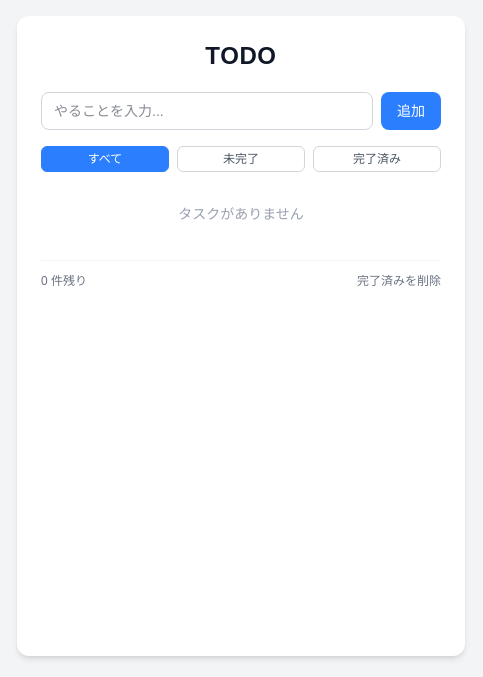
it: Home (TODO app) › deletes a todo when the delete button is clicked
Type "牛乳を買う" into the field with placeholder "やることを入力..." at (207,111), box [41,92,373,130]
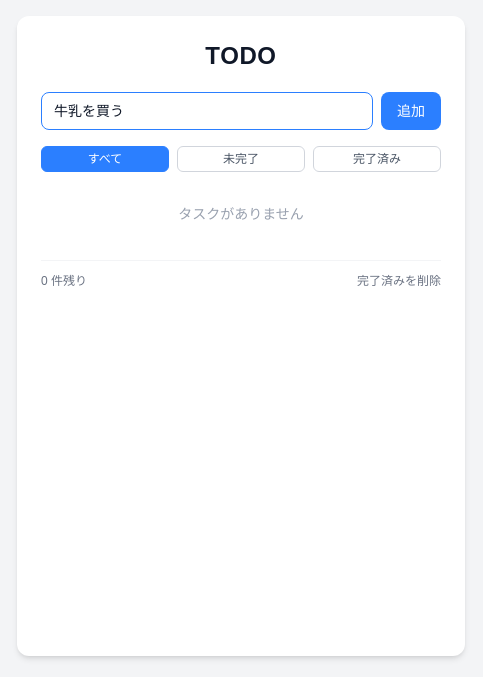
Click the button "追加" at (411,111), box [381,92,441,130]
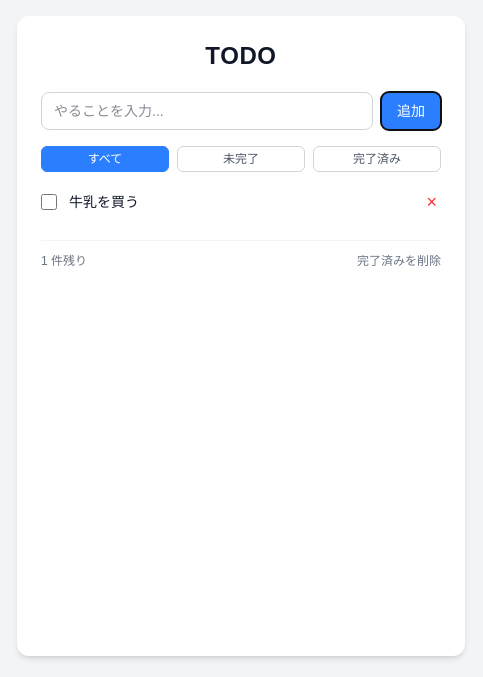
Type "レポートを書く" into the field with placeholder "やることを入力..." at (207,111), box [41,92,373,130]
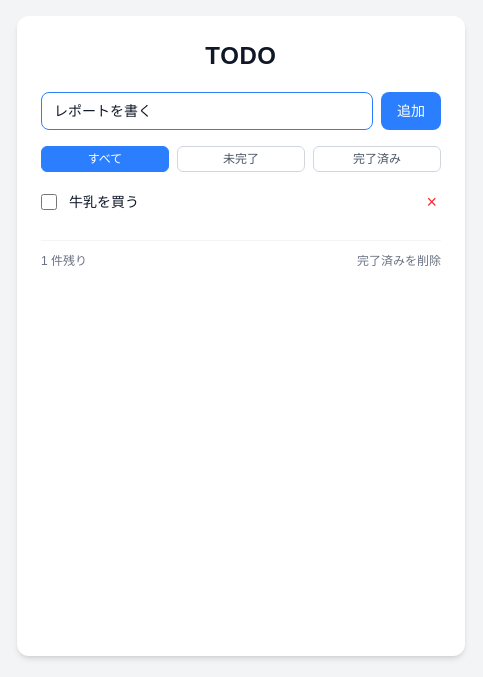
Click the button "追加" at (411,111), box [381,92,441,130]
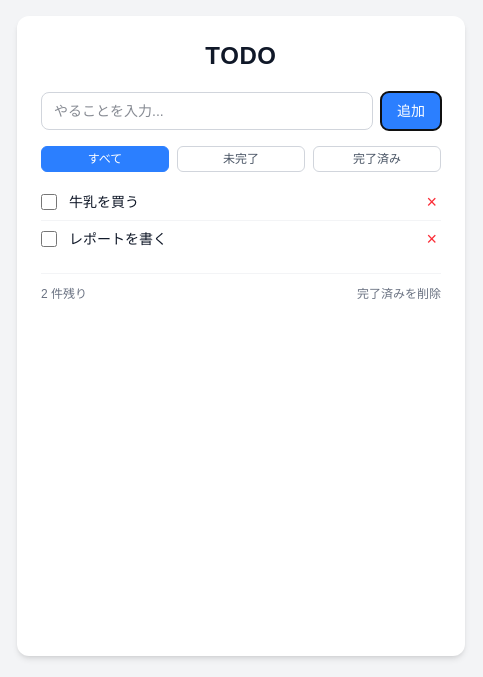
Click the button named "削除" at (432,202), box [422,193,441,211]
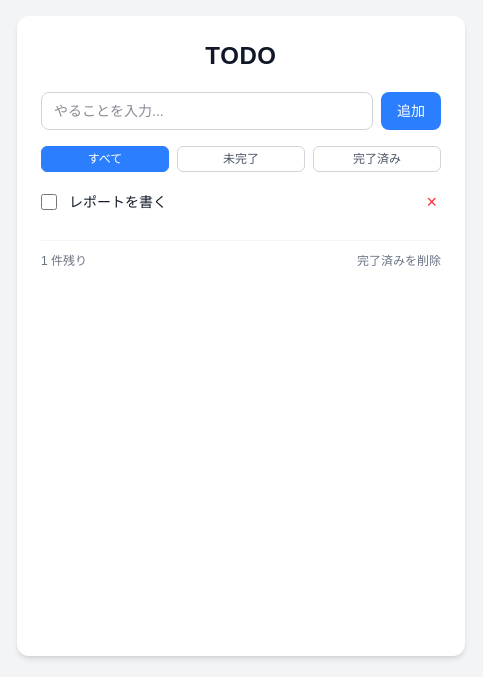
Now the text "レポートを書く" is shown, box [69,194,167,210]
Now the text "牛乳を買う" is gone
Now the text "1 件残り" is shown, box [41,253,87,269]
